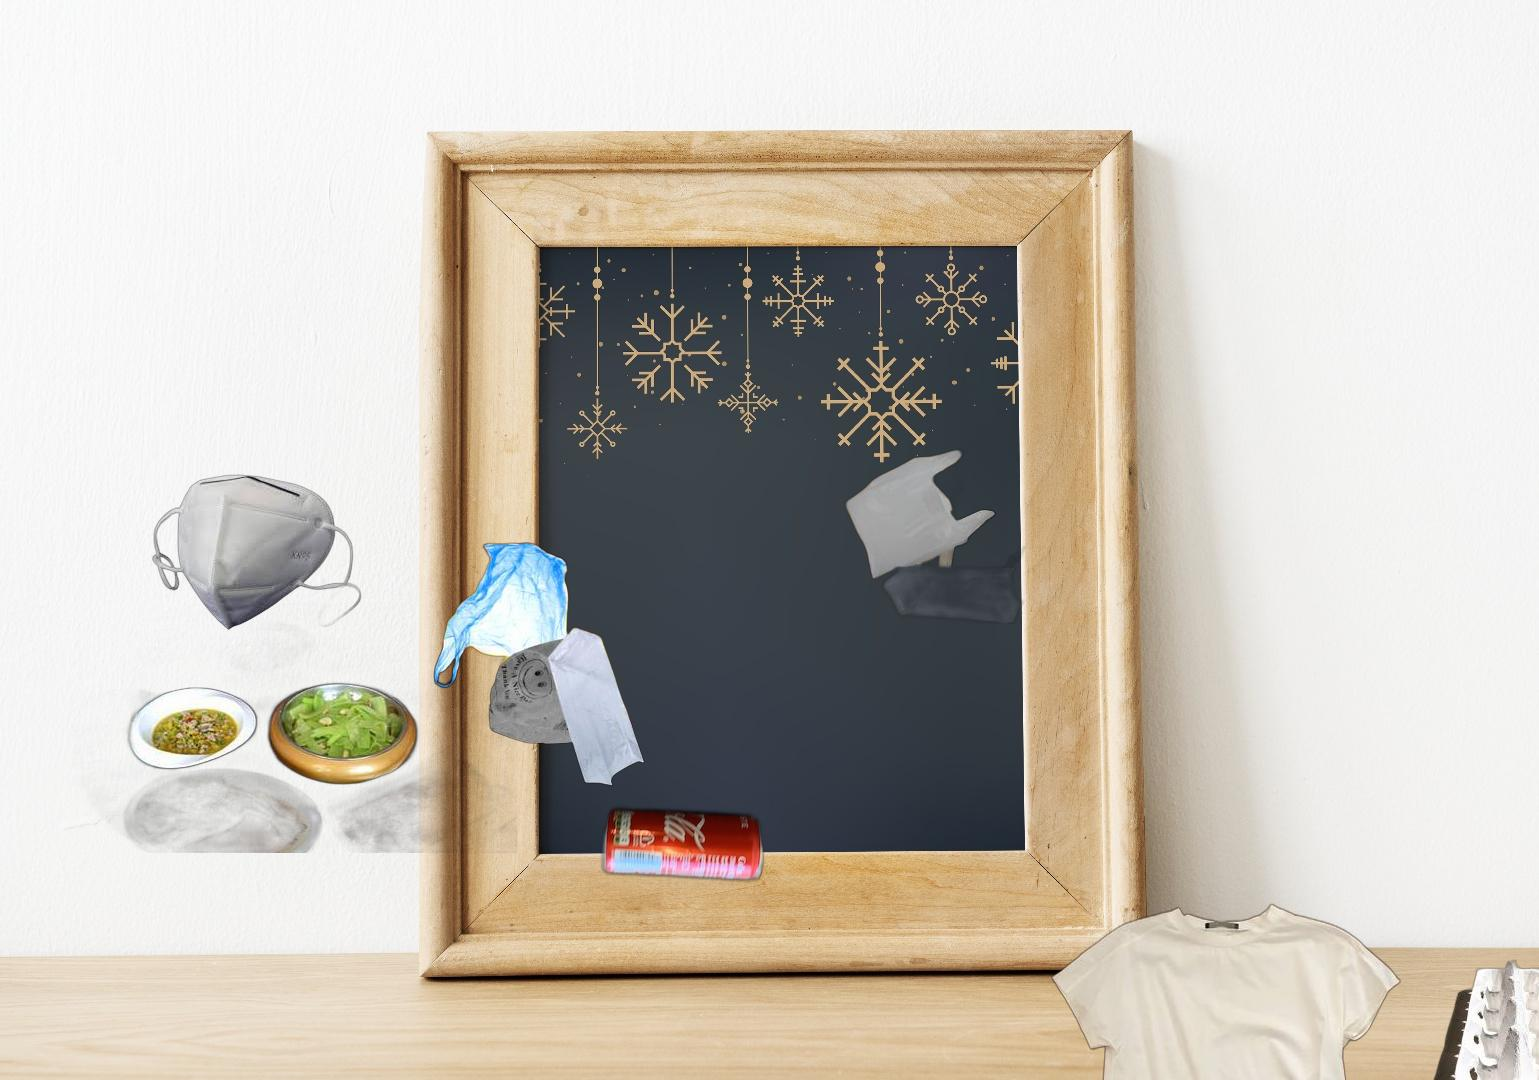biological: (60, 598, 517, 853)
clothes: (1048, 899, 1402, 1080)
metal-cans: (596, 802, 767, 886)
plastic-bag: (432, 539, 647, 788), (831, 420, 1028, 624)
trash: (150, 472, 364, 634)
trashbox-cardboard: (1422, 957, 1539, 1080)
